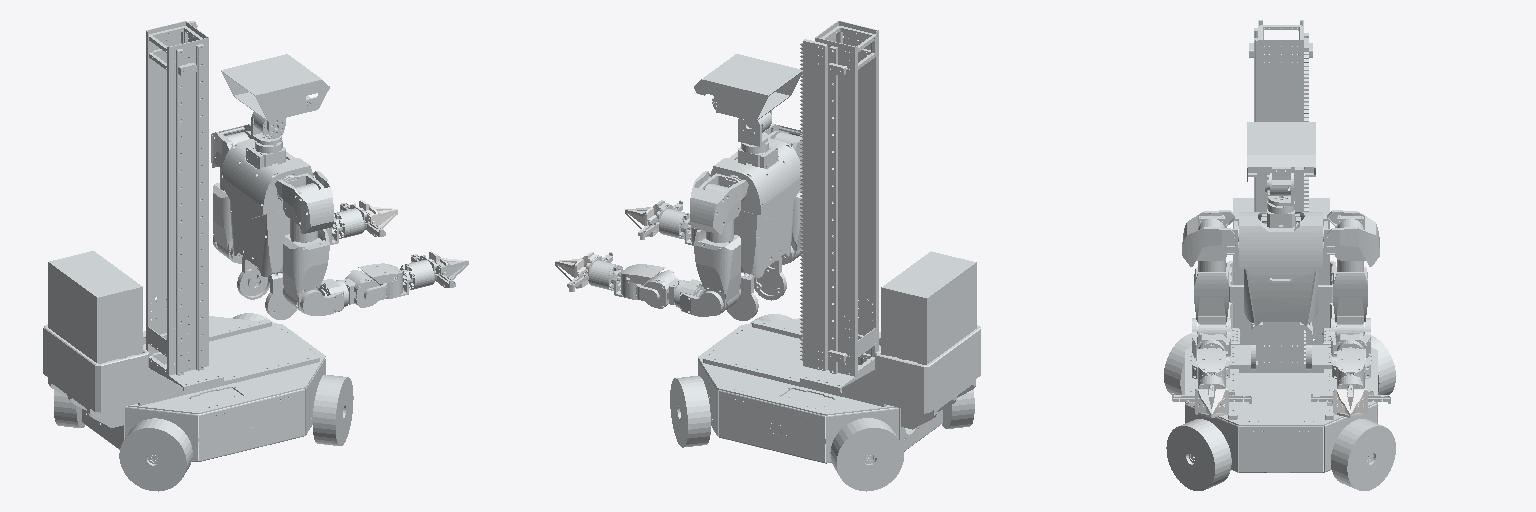
--- Facts derived from the render (not from the file) ---
3 views of the same robot in one strip: view 1: azimuth 30°, elevation 25°; view 2: azimuth 150°, elevation 25°; view 3: azimuth 270°, elevation 25° (orthographic).
Model X7S with 23 links and 22 joints (17 revolute, 5 prismatic), rooted at base_link, posed every joint at zero.
Visible links, largest first — view 1: base_link, link2, link4, link15, link16, link17, link20, link19, link11, link7, link6, link18 (+1 smaller); view 2: base_link, link2, link4, link6, link7, link8, link11, link20, link10, link3, link9, link15; view 3: base_link, link2, link4, link15, link6, link16, link7, link10, link19, link8, link17, link20 (+2 smaller).
Boxes of the visible links, x1,y1,x2,y2 form: base_link: [43, 21, 353, 491]; link2: [221, 139, 312, 319]; link4: [221, 54, 329, 136]; link15: [275, 171, 333, 242]; link16: [283, 229, 329, 313]; link17: [283, 279, 348, 315]; link20: [386, 254, 455, 298]; link19: [358, 263, 402, 301]; link11: [330, 203, 385, 244]; link7: [213, 183, 235, 262]; link6: [211, 124, 250, 190]; link18: [342, 270, 379, 307]; base_link: [670, 21, 980, 491]; link2: [711, 138, 801, 320]; link4: [694, 54, 802, 121]; link6: [690, 171, 748, 242]; link7: [694, 230, 740, 314]; link8: [674, 279, 740, 316]; link11: [567, 252, 637, 299]; link20: [638, 200, 693, 245]; link10: [621, 264, 664, 302]; link3: [738, 112, 771, 146]; link9: [644, 270, 679, 308]; link15: [764, 124, 801, 190]; base_link: [1164, 20, 1395, 490]; link2: [1238, 201, 1323, 369]; link4: [1247, 122, 1315, 191]; link15: [1182, 210, 1234, 271]; link6: [1327, 210, 1379, 271]; link16: [1194, 267, 1228, 336]; link7: [1333, 267, 1367, 335]; link10: [1332, 351, 1370, 387]; link19: [1192, 351, 1229, 388]; link8: [1331, 318, 1370, 359]; link17: [1192, 318, 1230, 359]; link20: [1172, 374, 1251, 408].
Bounding box of the posed robot: 0.9049 × 0.5054 × 0.963 m (x, y, z).
22 mesh visuals loaded from 23 distinct referenced files (22 binary STL); not drawn: 1 (reference not matched to a file when rendering).

The robot description file, URDF, robot "X7S":
<?xml version="1.0" encoding="utf-8"?>
<!-- This URDF was automatically created by SolidWorks to URDF Exporter! Originally created by Stephen Brawner ([email redacted]) 
     Commit Version: 1.6.0-4-g7f85cfe  Build Version: 1.6.7995.38578
     For more information, please see http://wiki.ros.org/sw_urdf_exporter -->
<robot
  name="X7S">
  <link
    name="base_link">
    <inertial>
      <origin
        xyz="-0.061403 0.00062999 0.18169"
        rpy="0 0 0" />
      <mass
        value="27.286" />
      <inertia
        ixx="1.61101"
        ixy="0.00464"
        ixz="-0.16195"
        iyy="1.99174"
        iyz="0.00823"
        izz="1.07279" />
    </inertial>
    <visual>
      <origin
        xyz="0 0 0"
        rpy="0 0 0" />
      <geometry>
        <mesh
          filename="package://X7S/meshes/base_link.STL" />
      </geometry>
      <material
        name="">
        <color
          rgba="0.89804 0.91765 0.92941 1" />
      </material>
    </visual>
    <collision>
      <origin
        xyz="0 0 0"
        rpy="0 0 0" />
      <geometry>
        <mesh
          filename="package://X7S/meshes/base_link.STL" />
      </geometry>
    </collision>
  </link>
  <link
    name="link1">
    <inertial>
      <origin
        xyz="-0.010805 -0.00069779 -0.059694"
        rpy="0 0 0" />
      <mass
        value="6.205" />
      <inertia
        ixx="0.01994"
        ixy="-0.00008"
        ixz="-0.00198"
        iyy="0.06039"
        iyz="-0.00016"
        izz="0.06721" />
    </inertial>
    <visual>
      <origin
        xyz="0 0 0"
        rpy="0 0 0" />
      <geometry>
        <mesh
          filename="package://X7S/meshes/link1.STL" />
      </geometry>
      <material
        name="">
        <color
          rgba="1 1 1 1" />
      </material>
    </visual>
    <collision>
      <origin
        xyz="0 0 0"
        rpy="0 0 0" />
      <geometry>
        <mesh
          filename="package://X7S/meshes/link1.STL" />
      </geometry>
    </collision>
  </link>
  <joint
    name="joint1"
    type="prismatic">
    <origin
      xyz="0.096 0 0.31"
      rpy="0 0 0" />
    <parent
      link="base_link" />
    <child
      link="link1" />
    <axis
      xyz="0 0 1" />
    <limit
      lower="0"
      upper="0.54"
      effort="100"
      velocity="1000" />
  </joint>
  <link
    name="link2">
    <inertial>
      <origin
        xyz="-0.000779578835400224 0.053760645280584 0.220464314501233"
        rpy="0 0 0" />
      <mass
        value="3.01262653552798" />
      <inertia
        ixx="0.03987"
        ixy="0.00000"
        ixz="-0.00003"
        iyy="0.03461"
        iyz="0.00039"
        izz="0.00967" />
    </inertial>
    <visual>
      <origin
        xyz="0 0 0"
        rpy="0 0 0" />
      <geometry>
        <mesh
          filename="package://X7S/meshes/link2.STL" />
      </geometry>
      <material
        name="">
        <color
          rgba="0.898039215686275 0.917647058823529 0.929411764705882 1" />
      </material>
    </visual>
    <collision>
      <origin
        xyz="0 0 0"
        rpy="0 0 0" />
      <geometry>
        <mesh
          filename="package://X7S/meshes/link2.STL" />
      </geometry>
    </collision>
  </link>
  <joint
    name="joint2"
    type="revolute">
    <origin
      xyz="0.066 -0.0546 -0.06"
      rpy="0 0 0" />
    <parent
      link="link1" />
    <child
      link="link2" />
    <axis
      xyz="0 -1 0" />
    <limit
      lower="-10"
      upper="10"
      effort="100"
      velocity="1000" />
  </joint>
  <link
    name="link3">
    <inertial>
      <origin
        xyz="-1.2166451790474E-08 0.000155101086835956 0.0414775143344981"
        rpy="0 0 0" />
      <mass
        value="0.429406588376073" />
      <inertia
        ixx="0.00027"
        ixy="0.00000"
        ixz="0.00000"
        iyy="0.00026"
        iyz="-0.00001"
        izz="0.00018" />
    </inertial>
    <visual>
      <origin
        xyz="0 0 0"
        rpy="0 0 0" />
      <geometry>
        <mesh
          filename="package://X7S/meshes/link3.STL" />
      </geometry>
      <material
        name="">
        <color
          rgba="0.898039215686275 0.917647058823529 0.929411764705882 1" />
      </material>
    </visual>
    <collision>
      <origin
        xyz="0 0 0"
        rpy="0 0 0" />
      <geometry>
        <mesh
          filename="package://X7S/meshes/link3.STL" />
      </geometry>
    </collision>
  </link>
  <joint
    name="joint3"
    type="revolute">
    <origin
      xyz="0 0.0544 0.356"
      rpy="0 0 0" />
    <parent
      link="link2" />
    <child
      link="link3" />
    <axis
      xyz="0 0 1" />
    <limit
      lower="-10"
      upper="10"
      effort="100"
      velocity="1000" />
  </joint>
  <link
    name="link4">
    <inertial>
      <origin
        xyz="0.0145474612596931 0.0229595215513494 0.0787914285814235"
        rpy="0 0 0" />
      <mass
        value="1.54420437039843" />
      <inertia
        ixx="0.00576"
        ixy="-0.00007"
        ixz="0.00018"
        iyy="0.00477"
        iyz="0.00015"
        izz="0.00768" />
    </inertial>
    <visual>
      <origin
        xyz="0 0 0"
        rpy="0 0 0" />
      <geometry>
        <mesh
          filename="package://X7S/meshes/link4.STL" />
      </geometry>
      <material
        name="">
        <color
          rgba="0.898039215686275 0.917647058823529 0.929411764705882 1" />
      </material>
    </visual>
    <collision>
      <origin
        xyz="0 0 0"
        rpy="0 0 0" />
      <geometry>
        <mesh
          filename="package://X7S/meshes/link4.STL" />
      </geometry>
    </collision>
  </link>
  <joint
    name="joint4"
    type="revolute">
    <origin
      xyz="0 -0.025 0.049"
      rpy="0 0 0" />
    <parent
      link="link3" />
    <child
      link="link4" />
    <axis
      xyz="0 -1 0" />
    <limit
      lower="-10"
      upper="10"
      effort="100"
      velocity="1000" />
  </joint>
  <link
    name="link5">
    <inertial>
      <origin
        xyz="0.0203118776657915 0.0282074621926044 -0.000172803675324795"
        rpy="0 0 0" />
      <mass
        value="0.131891884746085" />
      <inertia
        ixx="0.00012"
        ixy="0.00004"
        ixz="0.00000"
        iyy="0.00009"
        iyz="0.00000"
        izz="0.00014" />
    </inertial>
    <visual>
      <origin
        xyz="0 0 0"
        rpy="0 0 0" />
      <geometry>
        <mesh
          filename="package://X7S/meshes/link5.STL" />
      </geometry>
      <material
        name="">
        <color
          rgba="0.898039215686275 0.917647058823529 0.929411764705882 1" />
      </material>
    </visual>
    <collision>
      <origin
        xyz="0 0 0"
        rpy="0 0 0" />
      <geometry>
        <mesh
          filename="package://X7S/meshes/link5.STL" />
      </geometry>
    </collision>
  </link>
  <joint
    name="joint5"
    type="revolute">
    <origin
      xyz="0 0.1424 0.28"
      rpy="0 0 0" />
    <parent
      link="link2" />
    <child
      link="link5" />
    <axis
      xyz="0 1 0" />
    <limit
      lower="-10"
      upper="10"
      effort="100"
      velocity="1000" />
  </joint>
  <link
    name="link6">
    <inertial>
      <origin
        xyz="-0.0244518842072319 0.00440119803297737 -0.0251861647177716"
        rpy="0 0 0" />
      <mass
        value="1.03161675931573" />
      <inertia
        ixx="0.00167"
        ixy="0.00003"
        ixz="0.00007"
        iyy="0.00166"
        iyz="0.00005"
        izz="0.00088" />
    </inertial>
    <visual>
      <origin
        xyz="0 0 0"
        rpy="0 0 0" />
      <geometry>
        <mesh
          filename="package://X7S/meshes/link6.STL" />
      </geometry>
      <material
        name="">
        <color
          rgba="0.898039215686275 0.917647058823529 0.929411764705882 1" />
      </material>
    </visual>
    <collision>
      <origin
        xyz="0 0 0"
        rpy="0 0 0" />
      <geometry>
        <mesh
          filename="package://X7S/meshes/link6.STL" />
      </geometry>
    </collision>
  </link>
  <joint
    name="joint6"
    type="revolute">
    <origin
      xyz="0.02725 0.063 0"
      rpy="0 0 0" />
    <parent
      link="link5" />
    <child
      link="link6" />
    <axis
      xyz="-1 0 0" />
    <limit
      lower="-10"
      upper="10"
      effort="100"
      velocity="1000" />
  </joint>
  <link
    name="link7">
    <inertial>
      <origin
        xyz="0.000827778295739684 -0.00148365067233044 -0.105295191761956"
        rpy="0 0 0" />
      <mass
        value="0.736099125577072" />
      <inertia
        ixx="0.00229"
        ixy="0.00000"
        ixz="0.00009"
        iyy="0.00230"
        iyz="0.00004"
        izz="0.00060" />
    </inertial>
    <visual>
      <origin
        xyz="0 0 0"
        rpy="0 0 0" />
      <geometry>
        <mesh
          filename="package://X7S/meshes/link7.STL" />
      </geometry>
      <material
        name="">
        <color
          rgba="0.898039215686275 0.917647058823529 0.929411764705882 1" />
      </material>
    </visual>
    <collision>
      <origin
        xyz="0 0 0"
        rpy="0 0 0" />
      <geometry>
        <mesh
          filename="package://X7S/meshes/link7.STL" />
      </geometry>
    </collision>
  </link>
  <joint
    name="joint7"
    type="revolute">
    <origin
      xyz="-0.02725 0 -0.0865"
      rpy="0 0 0" />
    <parent
      link="link6" />
    <child
      link="link7" />
    <axis
      xyz="0 0 -1" />
    <limit
      lower="-10"
      upper="10"
      effort="100"
      velocity="1000" />
  </joint>
  <link
    name="link8">
    <inertial>
      <origin
        xyz="0.0593724453089232 0.0253235620813382 -0.0125969681001941"
        rpy="0 0 0" />
      <mass
        value="0.487506795308259" />
      <inertia
        ixx="0.00040"
        ixy="0.00003"
        ixz="-0.00007"
        iyy="0.00055"
        iyz="-0.00001"
        izz="0.00069" />
    </inertial>
    <visual>
      <origin
        xyz="0 0 0"
        rpy="0 0 0" />
      <geometry>
        <mesh
          filename="package://X7S/meshes/link8.STL" />
      </geometry>
      <material
        name="">
        <color
          rgba="0.898039215686275 0.917647058823529 0.929411764705882 1" />
      </material>
    </visual>
    <collision>
      <origin
        xyz="0 0 0"
        rpy="0 0 0" />
      <geometry>
        <mesh
          filename="package://X7S/meshes/link8.STL" />
      </geometry>
    </collision>
  </link>
  <joint
    name="joint8"
    type="revolute">
    <origin
      xyz="0 -0.02725 -0.1435"
      rpy="0 0 0" />
    <parent
      link="link7" />
    <child
      link="link8" />
    <axis
      xyz="0 -1 0" />
    <limit
      lower="-10"
      upper="10"
      effort="100"
      velocity="1000" />
  </joint>
  <link
    name="link9">
    <inertial>
      <origin
        xyz="0.0458969495196738 -0.000535552755431795 -9.66305755581987E-05"
        rpy="0 0 0" />
      <mass
        value="0.487431771518004" />
      <inertia
        ixx="0.00024"
        ixy="0.00000"
        ixz="0.00000"
        iyy="0.00027"
        iyz="0.00000"
        izz="0.00029" />
    </inertial>
    <visual>
      <origin
        xyz="0 0 0"
        rpy="0 0 0" />
      <geometry>
        <mesh
          filename="package://X7S/meshes/link9.STL" />
      </geometry>
      <material
        name="">
        <color
          rgba="0.898039215686275 0.917647058823529 0.929411764705882 1" />
      </material>
    </visual>
    <collision>
      <origin
        xyz="0 0 0"
        rpy="0 0 0" />
      <geometry>
        <mesh
          filename="package://X7S/meshes/link9.STL" />
      </geometry>
    </collision>
  </link>
  <joint
    name="joint9"
    type="revolute">
    <origin
      xyz="0.0945 0.02725 -0.015"
      rpy="0 0 0" />
    <parent
      link="link8" />
    <child
      link="link9" />
    <axis
      xyz="1 0 0" />
    <limit
      lower="-10"
      upper="10"
      effort="100"
      velocity="1000" />
  </joint>
  <link
    name="link10">
    <inertial>
      <origin
        xyz="0.0575036493913677 0.0264951119112793 0.00135889493052876"
        rpy="0 0 0" />
      <mass
        value="0.432944265521347" />
      <inertia
        ixx="0.00025"
        ixy="0.00002"
        ixz="-0.00002"
        iyy="0.00033"
        iyz="0.00000"
        izz="0.00041" />
    </inertial>
    <visual>
      <origin
        xyz="0 0 0"
        rpy="0 0 0" />
      <geometry>
        <mesh
          filename="package://X7S/meshes/link10.STL" />
      </geometry>
      <material
        name="">
        <color
          rgba="0.898039215686275 0.917647058823529 0.929411764705882 1" />
      </material>
    </visual>
    <collision>
      <origin
        xyz="0 0 0"
        rpy="0 0 0" />
      <geometry>
        <mesh
          filename="package://X7S/meshes/link10.STL" />
      </geometry>
    </collision>
  </link>
  <joint
    name="joint10"
    type="revolute">
    <origin
      xyz="0.05 -0.02725 0"
      rpy="0 0 0" />
    <parent
      link="link9" />
    <child
      link="link10" />
    <axis
      xyz="0 -1 0" />
    <limit
      lower="-10"
      upper="10"
      effort="100"
      velocity="1000" />
  </joint>
  <link
    name="link11">
    <inertial>
      <origin
        xyz="0.0782374674886107 2.27688611500743E-05 0.0203907673011059"
        rpy="0 0 0" />
      <mass
        value="0.471847835335863" />
      <inertia
        ixx="0.00040"
        ixy="0.00000"
        ixz="0.00006"
        iyy="0.00043"
        iyz="0.00000"
        izz="0.00064" />
    </inertial>
    <visual>
      <origin
        xyz="0 0 0"
        rpy="0 0 0" />
      <geometry>
        <mesh
          filename="package://X7S/meshes/link11.STL" />
      </geometry>
      <material
        name="">
        <color
          rgba="0.898039215686275 0.917647058823529 0.929411764705882 1" />
      </material>
    </visual>
    <collision>
      <origin
        xyz="0 0 0"
        rpy="0 0 0" />
      <geometry>
        <mesh
          filename="package://X7S/meshes/link11.STL" />
      </geometry>
    </collision>
  </link>
  <joint
    name="joint11"
    type="revolute">
    <origin
      xyz="0.066 0.02725 -0.022"
      rpy="0 0 0" />
    <parent
      link="link10" />
    <child
      link="link11" />
    <axis
      xyz="0 0 -1" />
    <limit
      lower="-10"
      upper="10"
      effort="100"
      velocity="100" />
  </joint>
  <link
    name="link12">
    <inertial>
      <origin
        xyz="-0.000355222592141713 -0.00782703850949387 -0.00298831676915334"
        rpy="0 0 0" />
      <mass
        value="0.0647981743053201" />
      <inertia
        ixx="0.00002"
        ixy="0.00000"
        ixz="0.00000"
        iyy="0.00003"
        iyz="0.00000"
        izz="0.00003" />
    </inertial>
    <visual>
      <origin
        xyz="0 0 0"
        rpy="0 0 0" />
      <geometry>
        <mesh
          filename="package://X7S/meshes/link12.STL" />
      </geometry>
      <material
        name="">
        <color
          rgba="1 1 1 1" />
      </material>
    </visual>
    <collision>
      <origin
        xyz="0 0 0"
        rpy="0 0 0" />
      <geometry>
        <mesh
          filename="package://X7S/meshes/link12.STL" />
      </geometry>
    </collision>
  </link>
  <joint
    name="joint12"
    type="prismatic">
    <origin
      xyz="0.12737 0.024896 0.021756"
      rpy="0 0 0" />
    <parent
      link="link11" />
    <child
      link="link12" />
    <axis
      xyz="0 1 0" />
    <limit
      lower="0"
      upper="0.044"
      effort="100"
      velocity="1000" />
  </joint>
  <link
    name="link13">
    <inertial>
      <origin
        xyz="-0.000355223470276722 0.00782768741060949 0.00242005652832489"
        rpy="0 0 0" />
      <mass
        value="0.0647981725781686" />
      <inertia
        ixx="0.00002"
        ixy="0.00000"
        ixz="0.00000"
        iyy="0.00003"
        iyz="0.00000"
        izz="0.00003" />
    </inertial>
    <visual>
      <origin
        xyz="0 0 0"
        rpy="0 0 0" />
      <geometry>
        <mesh
          filename="package://X7S/meshes/link13.STL" />
      </geometry>
      <material
        name="">
        <color
          rgba="1 1 1 1" />
      </material>
    </visual>
    <collision>
      <origin
        xyz="0 0 0"
        rpy="0 0 0" />
      <geometry>
        <mesh
          filename="package://X7S/meshes/link13.STL" />
      </geometry>
    </collision>
  </link>
  <joint
    name="joint13"
    type="prismatic">
    <origin
      xyz="0.12737 -0.0249 0.021756"
      rpy="0 0 0" />
    <parent
      link="link11" />
    <child
      link="link13" />
    <axis
      xyz="0 -1 0" />
    <limit
      lower="0"
      upper="0.044"
      effort="100"
      velocity="1000" />
  </joint>
  <link
    name="link14">
    <inertial>
      <origin
        xyz="0.0203118776657806 -0.0282074621926024 -0.000172803675324684"
        rpy="0 0 0" />
      <mass
        value="0.131891884746085" />
      <inertia
        ixx="0.00012"
        ixy="-0.00004"
        ixz="0.00000"
        iyy="0.00009"
        iyz="0.00000"
        izz="0.00014" />
    </inertial>
    <visual>
      <origin
        xyz="0 0 0"
        rpy="0 0 0" />
      <geometry>
        <mesh
          filename="package://X7S/meshes/link14.STL" />
      </geometry>
      <material
        name="">
        <color
          rgba="0.898039215686275 0.917647058823529 0.929411764705882 1" />
      </material>
    </visual>
    <collision>
      <origin
        xyz="0 0 0"
        rpy="0 0 0" />
      <geometry>
        <mesh
          filename="package://X7S/meshes/link14.STL" />
      </geometry>
    </collision>
  </link>
  <joint
    name="joint14"
    type="revolute">
    <origin
      xyz="0 -0.0336 0.28"
      rpy="0 0 0" />
    <parent
      link="link2" />
    <child
      link="link14" />
    <axis
      xyz="0 -1 0" />
    <limit
      lower="-10"
      upper="10"
      effort="100"
      velocity="1000" />
  </joint>
  <link
    name="link15">
    <inertial>
      <origin
        xyz="-0.0244518746422262 -0.00440118072836032 -0.0251861194488474"
        rpy="0 0 0" />
      <mass
        value="1.03161748745213" />
      <inertia
        ixx="0.00167"
        ixy="-0.00003"
        ixz="0.00007"
        iyy="0.00166"
        iyz="-0.00005"
        izz="0.00088" />
    </inertial>
    <visual>
      <origin
        xyz="0 0 0"
        rpy="0 0 0" />
      <geometry>
        <mesh
          filename="package://X7S/meshes/link15.STL" />
      </geometry>
      <material
        name="">
        <color
          rgba="0.898039215686275 0.917647058823529 0.929411764705882 1" />
      </material>
    </visual>
    <collision>
      <origin
        xyz="0 0 0"
        rpy="0 0 0" />
      <geometry>
        <mesh
          filename="package://X7S/meshes/link15.STL" />
      </geometry>
    </collision>
  </link>
  <joint
    name="joint15"
    type="revolute">
    <origin
      xyz="0.02725 -0.063 0"
      rpy="0 0 0" />
    <parent
      link="link14" />
    <child
      link="link15" />
    <axis
      xyz="-1 0 0" />
    <limit
      lower="-10"
      upper="10"
      effort="100"
      velocity="1000" />
  </joint>
  <link
    name="link16">
    <inertial>
      <origin
        xyz="0.000827779970195369 0.0014843542246373 -0.105295189564578"
        rpy="0 0 0" />
      <mass
        value="0.73609919110615" />
      <inertia
        ixx="0.00229"
        ixy="0.00000"
        ixz="0.00009"
        iyy="0.00230"
        iyz="-0.00004"
        izz="0.00060" />
    </inertial>
    <visual>
      <origin
        xyz="0 0 0"
        rpy="0 0 0" />
      <geometry>
        <mesh
          filename="package://X7S/meshes/link16.STL" />
      </geometry>
      <material
        name="">
        <color
          rgba="0.898039215686275 0.917647058823529 0.929411764705882 1" />
      </material>
    </visual>
    <collision>
      <origin
        xyz="0 0 0"
        rpy="0 0 0" />
      <geometry>
        <mesh
          filename="package://X7S/meshes/link16.STL" />
      </geometry>
    </collision>
  </link>
  <joint
    name="joint16"
    type="revolute">
    <origin
      xyz="-0.02725 0 -0.0865"
      rpy="0 0 0" />
    <parent
      link="link15" />
    <child
      link="link16" />
    <axis
      xyz="0 0 -1" />
    <limit
      lower="-10"
      upper="10"
      effort="100"
      velocity="1000" />
  </joint>
  <link
    name="link17">
    <inertial>
      <origin
        xyz="0.0593724456215453 -0.025323327171846 -0.0127286630831199"
        rpy="0 0 0" />
      <mass
        value="0.48750674832378" />
      <inertia
        ixx="0.00040"
        ixy="-0.00003"
        ixz="-0.00007"
        iyy="0.00055"
        iyz="0.00001"
        izz="0.00069" />
    </inertial>
    <visual>
      <origin
        xyz="0 0 0"
        rpy="0 0 0" />
      <geometry>
        <mesh
          filename="package://X7S/meshes/link17.STL" />
      </geometry>
      <material
        name="">
        <color
          rgba="0.898039215686275 0.917647058823529 0.929411764705882 1" />
      </material>
    </visual>
    <collision>
      <origin
        xyz="0 0 0"
        rpy="0 0 0" />
      <geometry>
        <mesh
          filename="package://X7S/meshes/link17.STL" />
      </geometry>
    </collision>
  </link>
  <joint
    name="joint17"
    type="revolute">
    <origin
      xyz="0 0.02725 -0.1435"
      rpy="0 0 0" />
    <parent
      link="link16" />
    <child
      link="link17" />
    <axis
      xyz="0 1 0" />
    <limit
      lower="-10"
      upper="10"
      effort="100"
      velocity="1000" />
  </joint>
  <link
    name="link18">
    <inertial>
      <origin
        xyz="0.0458969709559334 0.000535552755438318 -2.35788959310756E-05"
        rpy="0 0 0" />
      <mass
        value="0.487431771518004" />
      <inertia
        ixx="0.00024"
        ixy="0.00000"
        ixz="0.00000"
        iyy="0.00027"
        iyz="0.00000"
        izz="0.00029" />
    </inertial>
    <visual>
      <origin
        xyz="0 0 0"
        rpy="0 0 0" />
      <geometry>
        <mesh
          filename="package://X7S/meshes/link18.STL" />
      </geometry>
      <material
        name="">
        <color
          rgba="0.898039215686275 0.917647058823529 0.929411764705882 1" />
      </material>
    </visual>
    <collision>
      <origin
        xyz="0 0 0"
        rpy="0 0 0" />
      <geometry>
        <mesh
          filename="package://X7S/meshes/link18.STL" />
      </geometry>
    </collision>
  </link>
  <joint
    name="joint18"
    type="revolute">
    <origin
      xyz="0.0945 -0.02725 -0.015"
      rpy="0 0 0" />
    <parent
      link="link17" />
    <child
      link="link18" />
    <axis
      xyz="1 0 0" />
    <limit
      lower="-10"
      upper="10"
      effort="100"
      velocity="1000" />
  </joint>
  <link
    name="link19">
    <inertial>
      <origin
        xyz="0.0575036493913393 -0.0265307053304072 0.00135892274814464"
        rpy="0 0 0" />
      <mass
        value="0.432944265521347" />
      <inertia
        ixx="0.00025"
        ixy="-0.00002"
        ixz="-0.00002"
        iyy="0.00033"
        iyz="0.00000"
        izz="0.00041" />
    </inertial>
    <visual>
      <origin
        xyz="0 0 0"
        rpy="0 0 0" />
      <geometry>
        <mesh
          filename="package://X7S/meshes/link19.STL" />
      </geometry>
      <material
        name="">
        <color
          rgba="0.898039215686275 0.917647058823529 0.929411764705882 1" />
      </material>
    </visual>
    <collision>
      <origin
        xyz="0 0 0"
        rpy="0 0 0" />
      <geometry>
        <mesh
          filename="package://X7S/meshes/link19.STL" />
      </geometry>
    </collision>
  </link>
  <joint
    name="joint19"
    type="revolute">
    <origin
      xyz="0.05 0.02725 0"
      rpy="0 0 0" />
    <parent
      link="link18" />
    <child
      link="link19" />
    <axis
      xyz="0 1 0" />
    <limit
      lower="-10"
      upper="10"
      effort="100"
      velocity="1000" />
  </joint>
  <link
    name="link20">
    <inertial>
      <origin
        xyz="0.0782374674886106 2.27688611456334E-05 0.0203907673011835"
        rpy="0 0 0" />
      <mass
        value="0.471847835335862" />
      <inertia
        ixx="0.00040"
        ixy="0.00000"
        ixz="0.00006"
        iyy="0.00043"
        iyz="0.00000"
        izz="0.00064" />
    </inertial>
    <visual>
      <origin
        xyz="0 0 0"
        rpy="0 0 0" />
      <geometry>
        <mesh
          filename="package://X7S/meshes/link20.STL" />
      </geometry>
      <material
        name="">
        <color
          rgba="0.898039215686275 0.917647058823529 0.929411764705882 1" />
      </material>
    </visual>
    <collision>
      <origin
        xyz="0 0 0"
        rpy="0 0 0" />
      <geometry>
        <mesh
          filename="package://X7S/meshes/link20.STL" />
      </geometry>
    </collision>
  </link>
  <joint
    name="joint20"
    type="revolute">
    <origin
      xyz="0.066 -0.02725 -0.022"
      rpy="0 0 0" />
    <parent
      link="link19" />
    <child
      link="link20" />
    <axis
      xyz="0 0 -1" />
    <limit
      lower="-10"
      upper="10"
      effort="100"
      velocity="1000" />
  </joint>
  <link
    name="link21">
    <inertial>
      <origin
        xyz="-0.000355222592142046 -0.0078270385094939 -0.00298831676915345"
        rpy="0 0 0" />
      <mass
        value="0.0647981743053201" />
      <inertia
        ixx="0.00002"
        ixy="0.00000"
        ixz="0.00000"
        iyy="0.00003"
        iyz="0.00000"
        izz="0.00003" />
    </inertial>
    <visual>
      <origin
        xyz="0 0 0"
        rpy="0 0 0" />
      <geometry>
        <mesh
          filename="package://X7S/meshes/link21.STL" />
      </geometry>
      <material
        name="">
        <color
          rgba="1 1 1 1" />
      </material>
    </visual>
    <collision>
      <origin
        xyz="0 0 0"
        rpy="0 0 0" />
      <geometry>
        <mesh
          filename="package://X7S/meshes/link21.STL" />
      </geometry>
    </collision>
  </link>
  <joint
    name="joint21"
    type="prismatic">
    <origin
      xyz="0.12737 0.024896 0.021756"
      rpy="0 0 0" />
    <parent
      link="link20" />
    <child
      link="link21" />
    <axis
      xyz="0 1 0" />
    <limit
      lower="0"
      upper="0.044"
      effort="100"
      velocity="1000" />
  </joint>
  <link
    name="link22">
    <inertial>
      <origin
        xyz="-0.000355223470277055 0.00782768741060944 0.00242005652832467"
        rpy="0 0 0" />
      <mass
        value="0.0647981725781687" />
      <inertia
        ixx="0.00002"
        ixy="0.00000"
        ixz="0.00000"
        iyy="0.00003"
        iyz="0.00000"
        izz="0.00003" />
    </inertial>
    <visual>
      <origin
        xyz="0 0 0"
        rpy="0 0 0" />
      <geometry>
        <mesh
          filename="package://X7S/meshes/link22.STL" />
      </geometry>
      <material
        name="">
        <color
          rgba="0.898039215686275 0.917647058823529 0.929411764705882 1" />
      </material>
    </visual>
    <collision>
      <origin
        xyz="0 0 0"
        rpy="0 0 0" />
      <geometry>
        <mesh
          filename="package://X7S/meshes/link22.STL" />
      </geometry>
    </collision>
  </link>
  <joint
    name="joint22"
    type="prismatic">
    <origin
      xyz="0.12737 -0.0249 0.021756"
      rpy="0 0 0" />
    <parent
      link="link20" />
    <child
      link="link22" />
    <axis
      xyz="0 -1 0" />
    <limit
      lower="0"
      upper="0.044"
      effort="100"
      velocity="1000" />
  </joint>
</robot>
